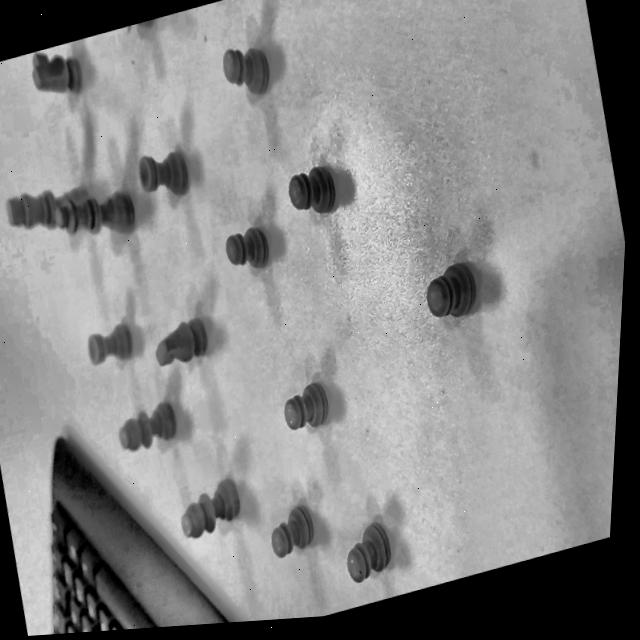white-bishop: (173, 468, 252, 543), (112, 393, 188, 459)
white-king: (0, 163, 108, 262)
white-knight: (22, 38, 88, 115), (149, 310, 222, 378)
white-pawn: (412, 243, 495, 351), (330, 503, 414, 598), (212, 24, 284, 115), (278, 148, 355, 232), (270, 367, 342, 448), (215, 212, 285, 294), (261, 499, 325, 561)
white-queen: (46, 173, 147, 258)
white-rook: (132, 132, 206, 212), (76, 308, 143, 381)
